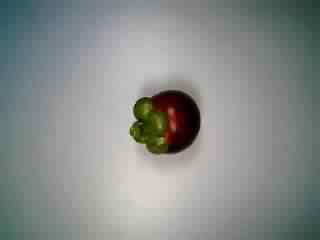mangosteen: (124, 86, 202, 159)
